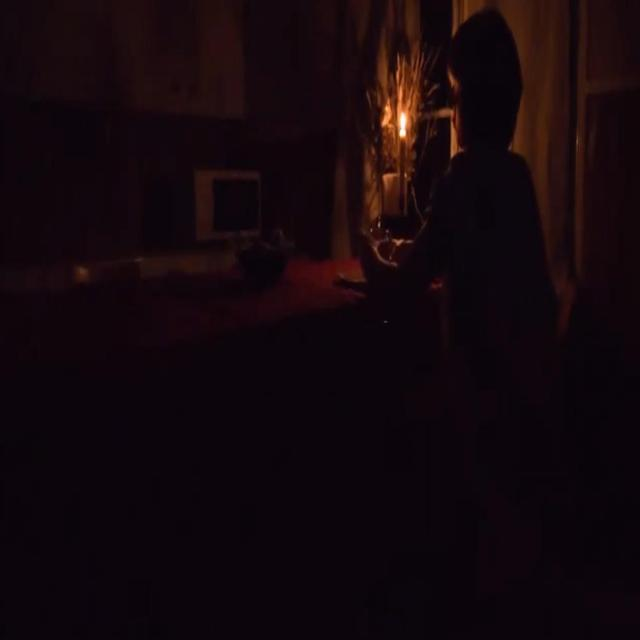smoke: (396, 105, 409, 136)
